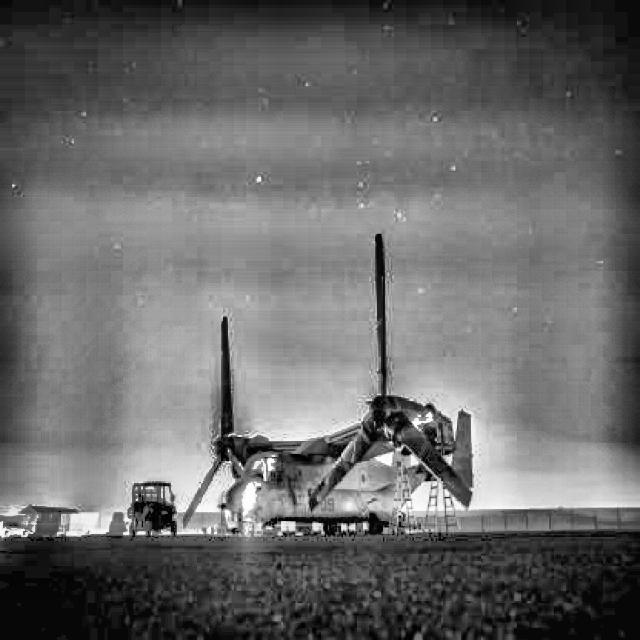V22: (182, 231, 475, 535)
